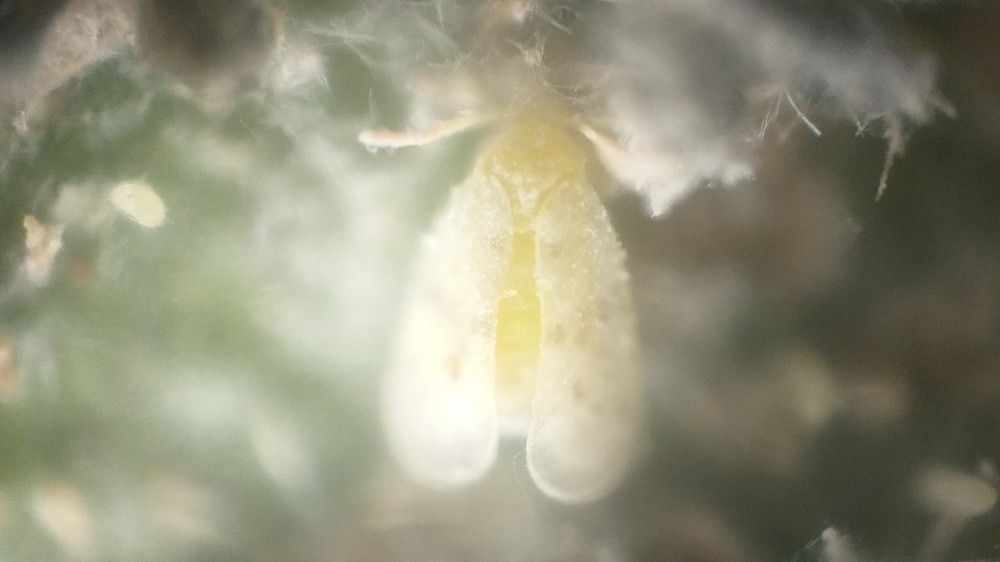Mosca Blanca: (336, 75, 711, 516)
